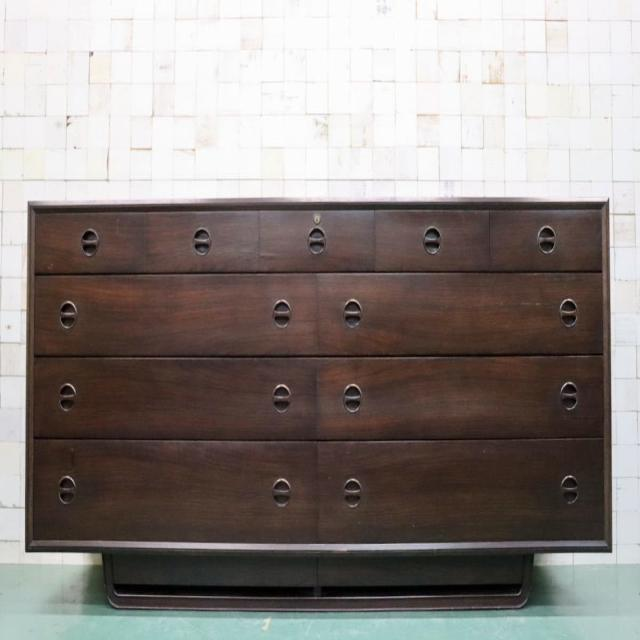vintage shelf: (23, 188, 615, 613)
